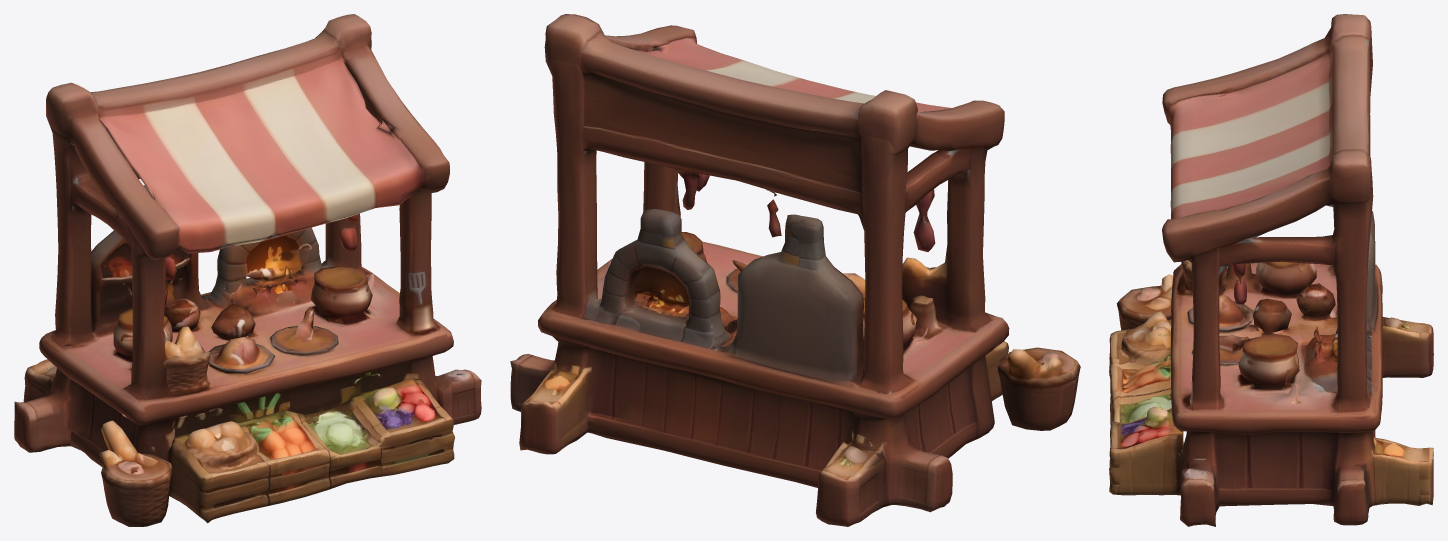
Rendered from stall-bakery.glb.
3 renders of one model, left to right at view 1: azimuth 30°, elevation 25°; view 2: azimuth 150°, elevation 25°; view 3: azimuth 270°, elevation 25°, orthographic. The views are drawn at different scales.
Visible parts, largest first — view 1: stall-bakery; view 2: stall-bakery; view 3: stall-bakery.
Part boxes in pixels (x1,y1,x2,y2): stall-bakery: (14, 14, 481, 526); stall-bakery: (510, 14, 1080, 526); stall-bakery: (1109, 14, 1433, 526).
Bounding box in the file's own units: 0.9455 × 0.8074 × 0.6805.
Materials: 1 (1 with a texture image).
